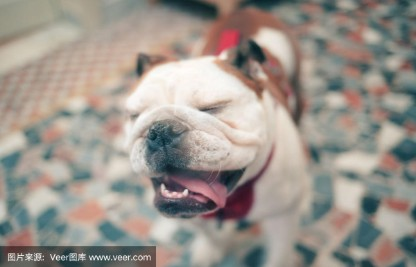闭眼: (190, 93, 238, 115)
